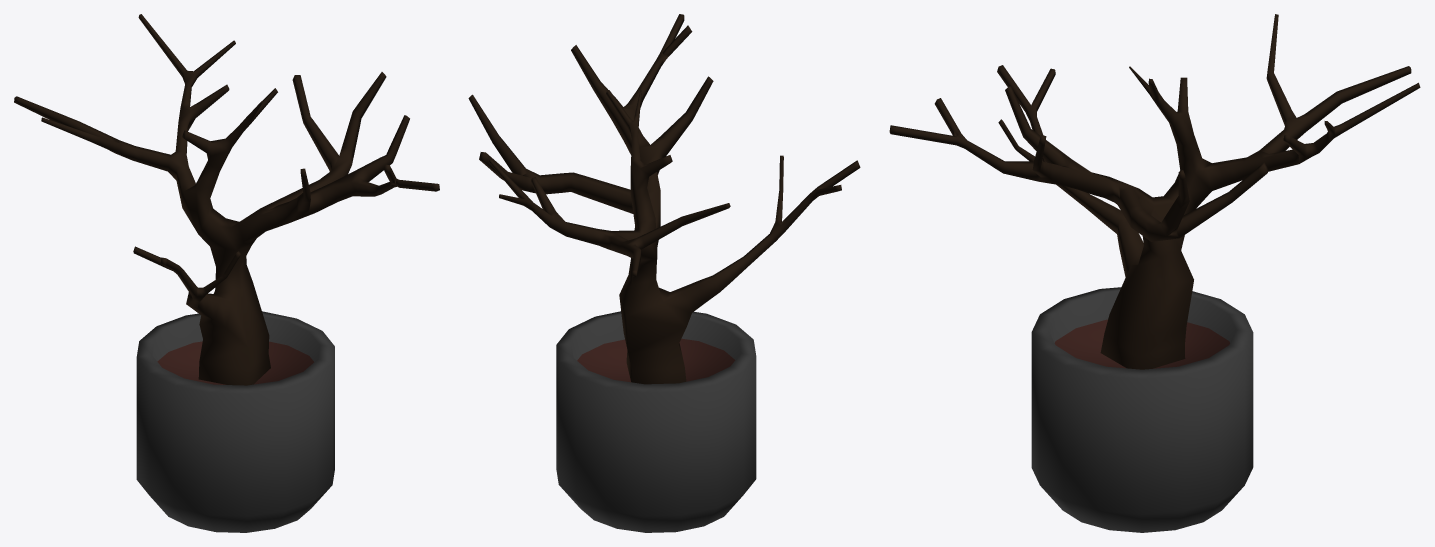
File: dead bonsai.fbx
3 renders of one model, left to right at view 1: azimuth 30°, elevation 25°; view 2: azimuth 150°, elevation 25°; view 3: azimuth 270°, elevation 25°, orthographic. The views are drawn at different scales.
Parts seen in each view (by area): view 1: Cylinder; view 2: Cylinder; view 3: Cylinder.
Part boxes in pixels (box(x1,y1,x2,y2)): Cylinder: box(14, 14, 439, 532); Cylinder: box(468, 14, 860, 532); Cylinder: box(889, 14, 1420, 532).
Bounding box in the file's own units: 37.59 × 45.97 × 50.14.
